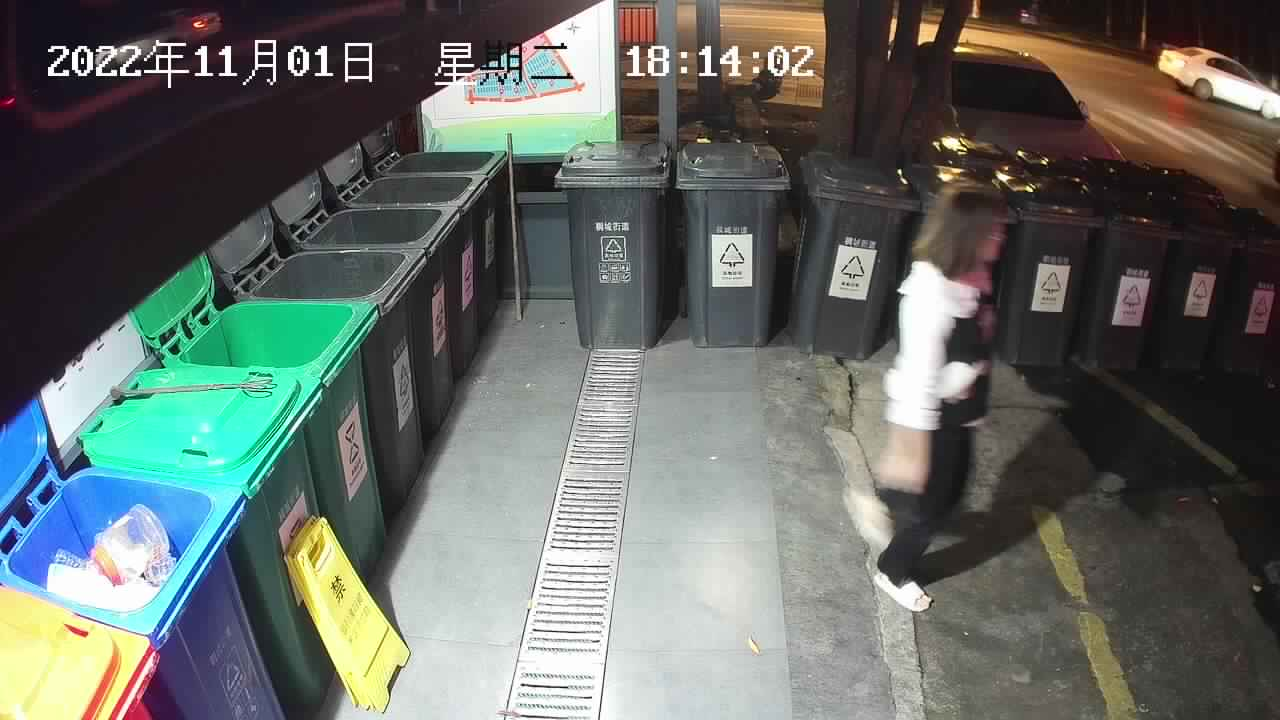person: (870, 173, 1011, 614)
